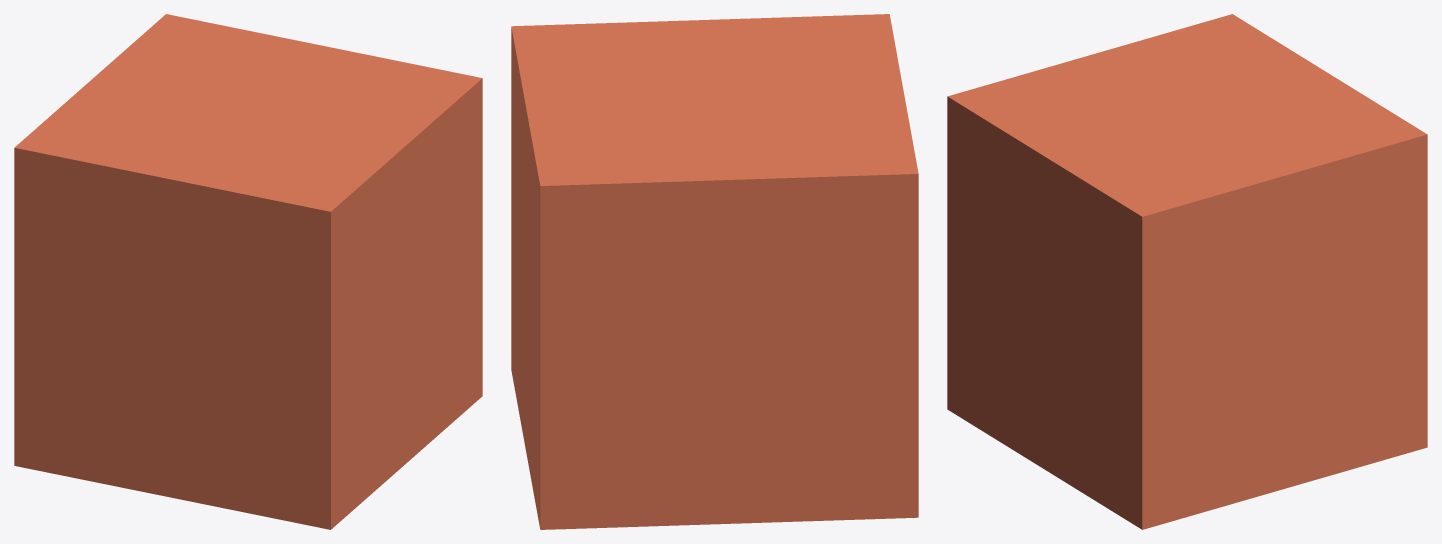
3 renders of one model, left to right at view 1: azimuth 30°, elevation 25°; view 2: azimuth 150°, elevation 25°; view 3: azimuth 270°, elevation 25°, orthographic. The views are drawn at different scales.
Parts seen in each view (by area): view 1: Cube; view 2: Cube; view 3: Cube.
Boxes of the visible parts, left/top/right/bottom form: Cube: left=14, top=14, right=482, bottom=529; Cube: left=511, top=14, right=918, bottom=529; Cube: left=947, top=14, right=1427, bottom=529.
Size of what is drawn, in the model's own units: 2.08 by 1.5 by 2.08.
